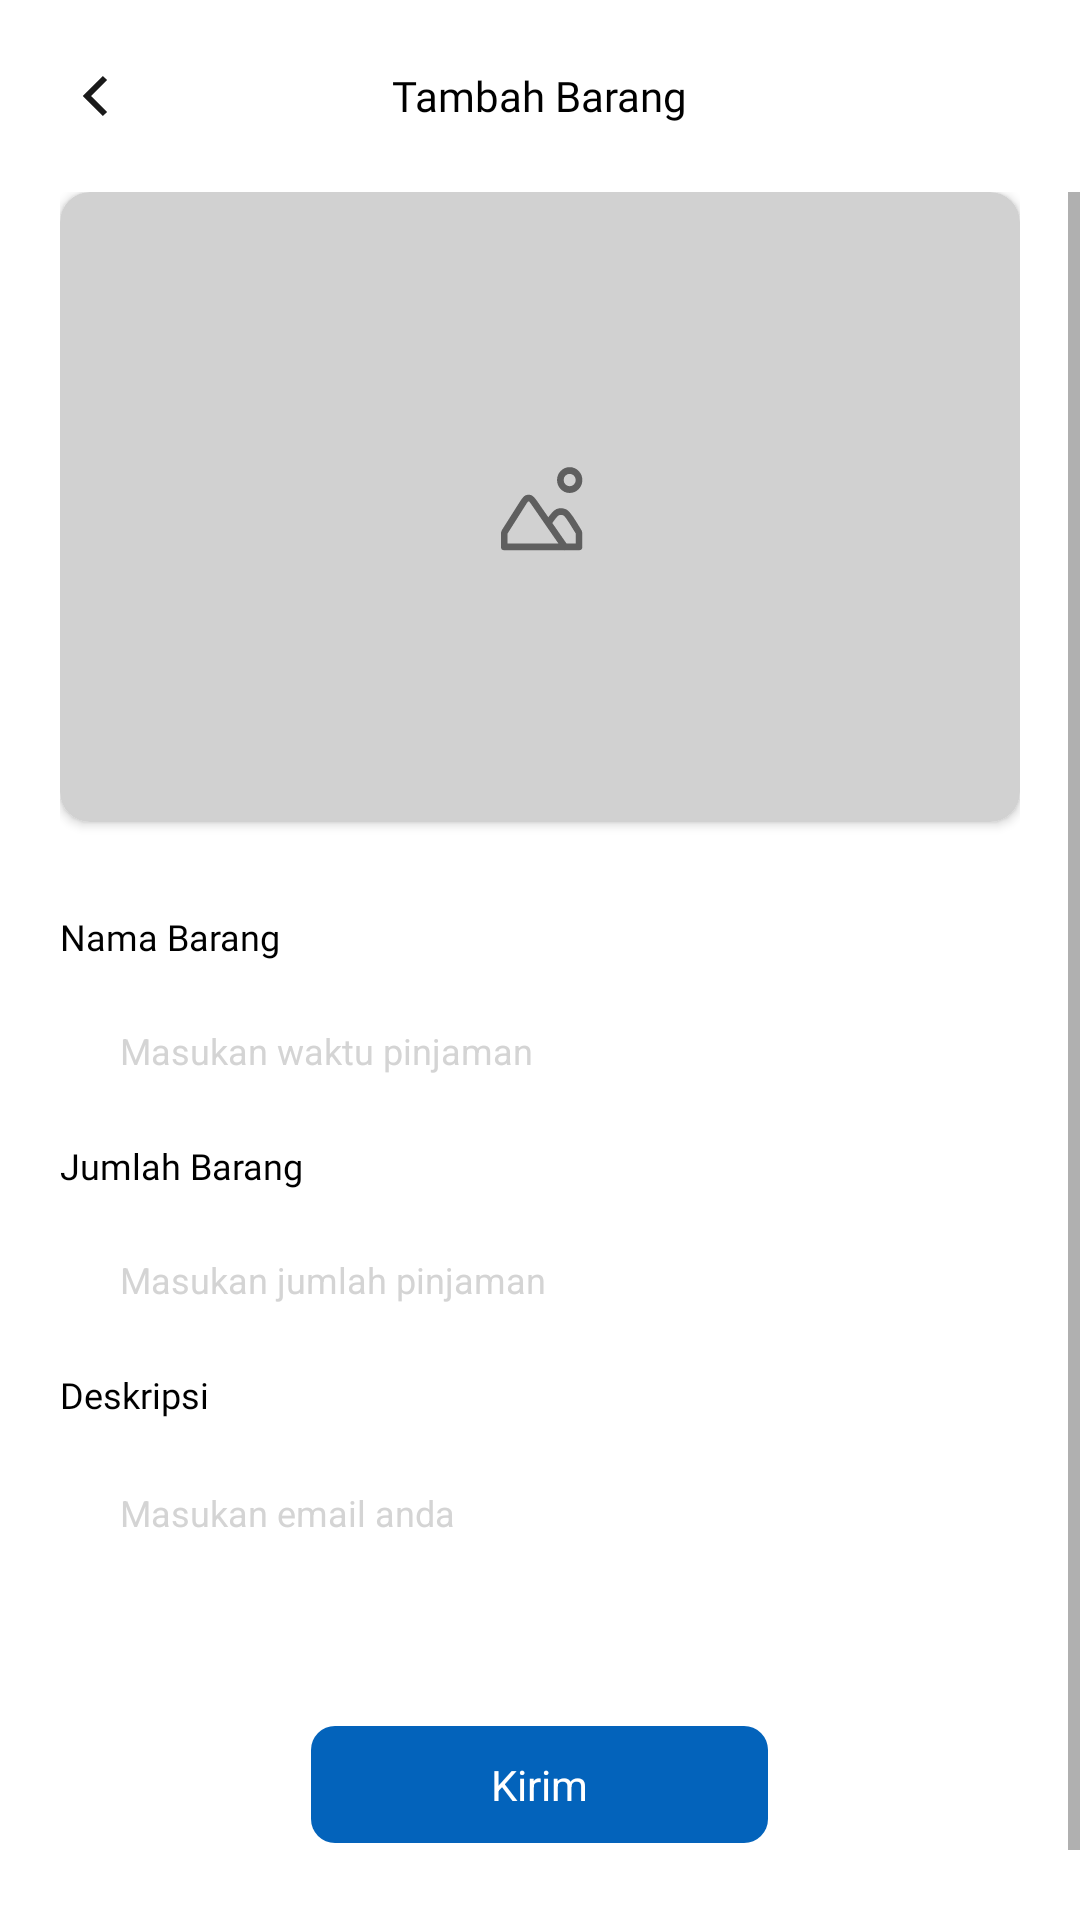

Point at icon controls on the screen. Image size 1080×1920, points as (x=x, y=y).
back: (x=95, y=96)
